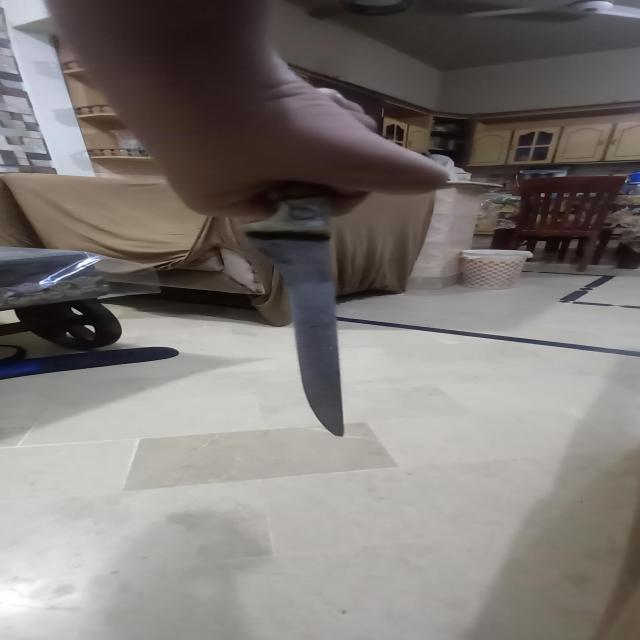Knife: (240, 172, 348, 432)
Person: (34, 0, 458, 214)
